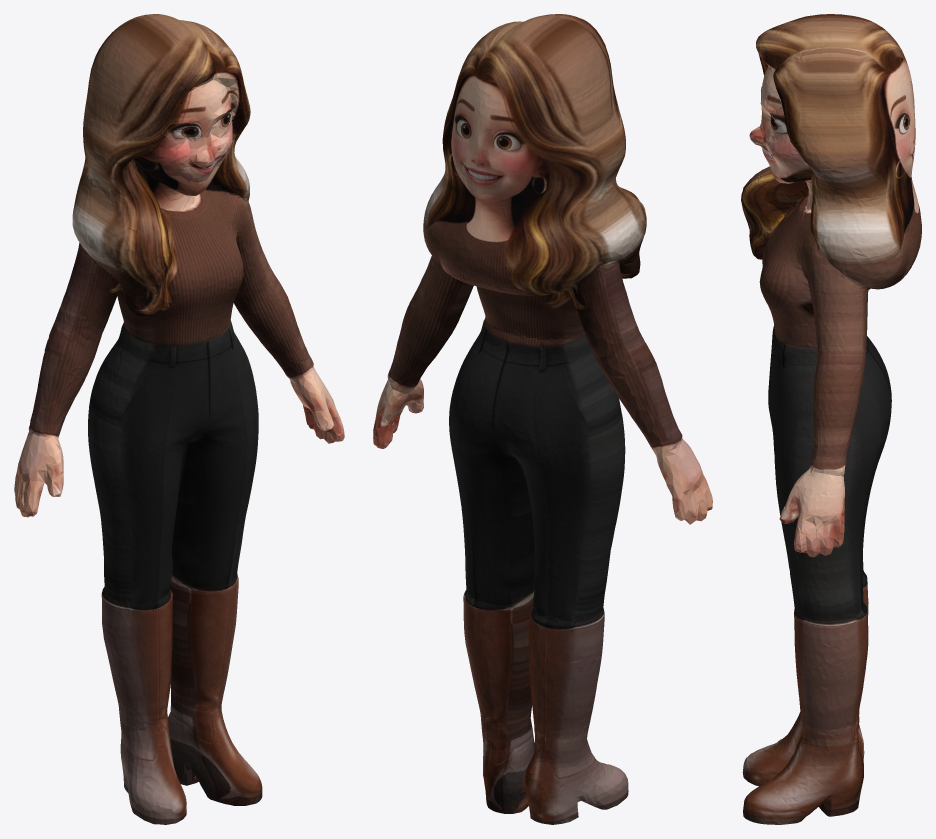
File: maya3d.glb
The picture shows the model from 3 angles, left to right: view 1: azimuth 30°, elevation 25°; view 2: azimuth 150°, elevation 25°; view 3: azimuth 270°, elevation 25°; orthographic projection. The views are drawn at different scales.
Parts seen in each view (by area): view 1: geometry_0; view 2: geometry_0; view 3: geometry_0.
Boxes of the visible parts, box(x1,y1,x2,y2) form: geometry_0: box(14, 14, 344, 824); geometry_0: box(373, 14, 712, 824); geometry_0: box(741, 14, 921, 824).
Size of the model in its own units: 0.745 by 1.7 by 0.361.
1 material, 1 textured.
